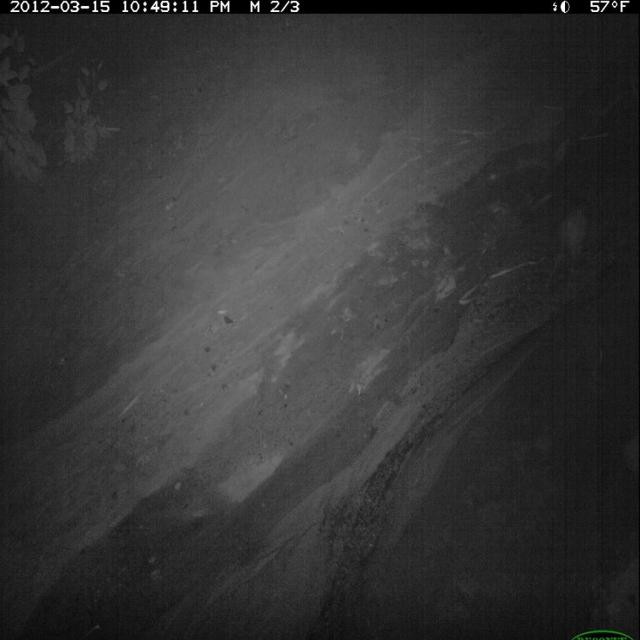opossum: (535, 198, 595, 302)
